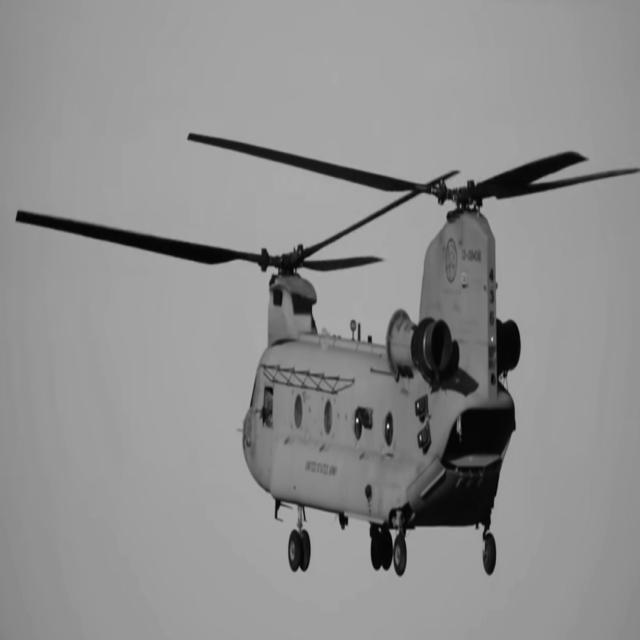Helicopter: (16, 134, 640, 576)
